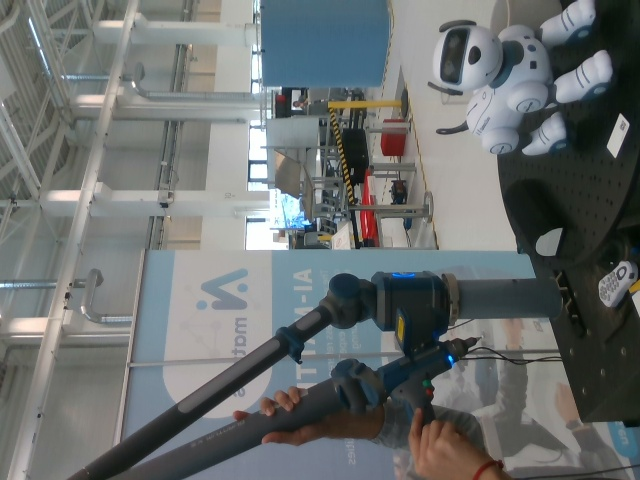Robot arm: (64, 271, 564, 479)
